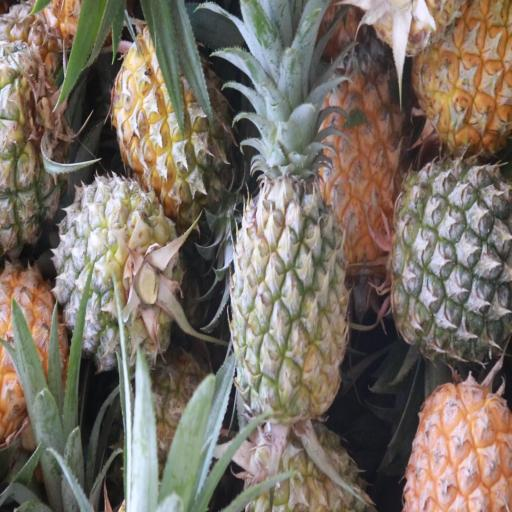------------------------------: (112, 14, 233, 210), (54, 177, 176, 362)
Pineapple - v8 v1: (325, 50, 410, 257), (415, 0, 512, 152), (0, 253, 70, 445)
